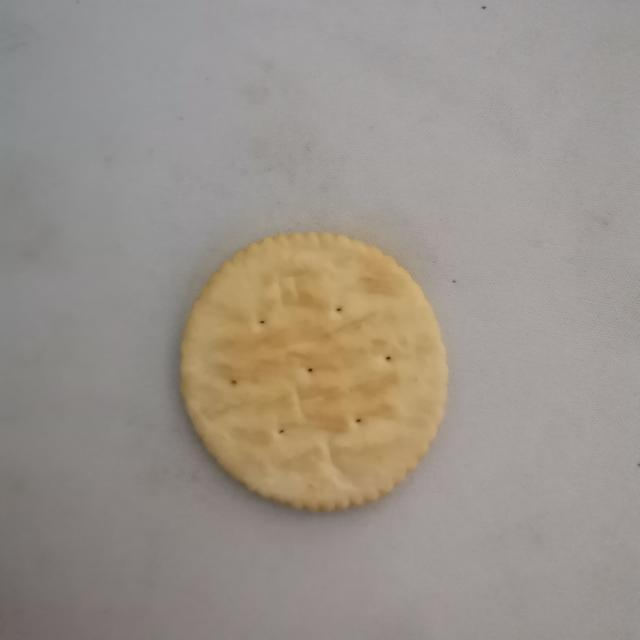Intact: (172, 220, 455, 528)
